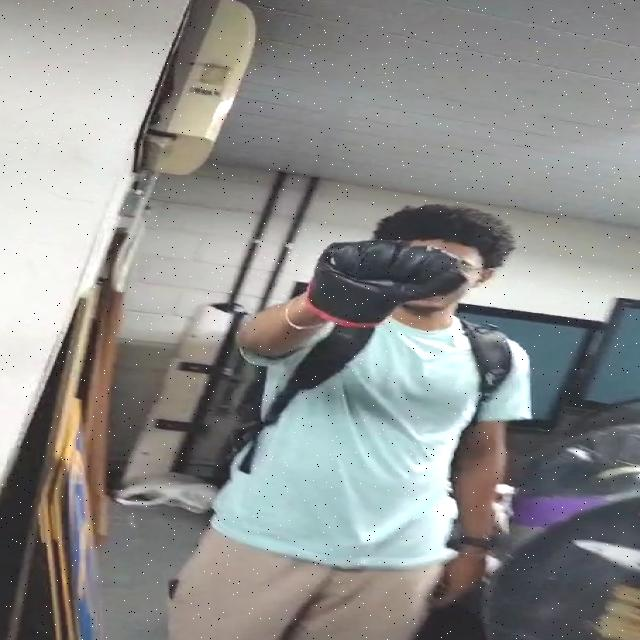Gloves: (306, 240, 466, 326)
